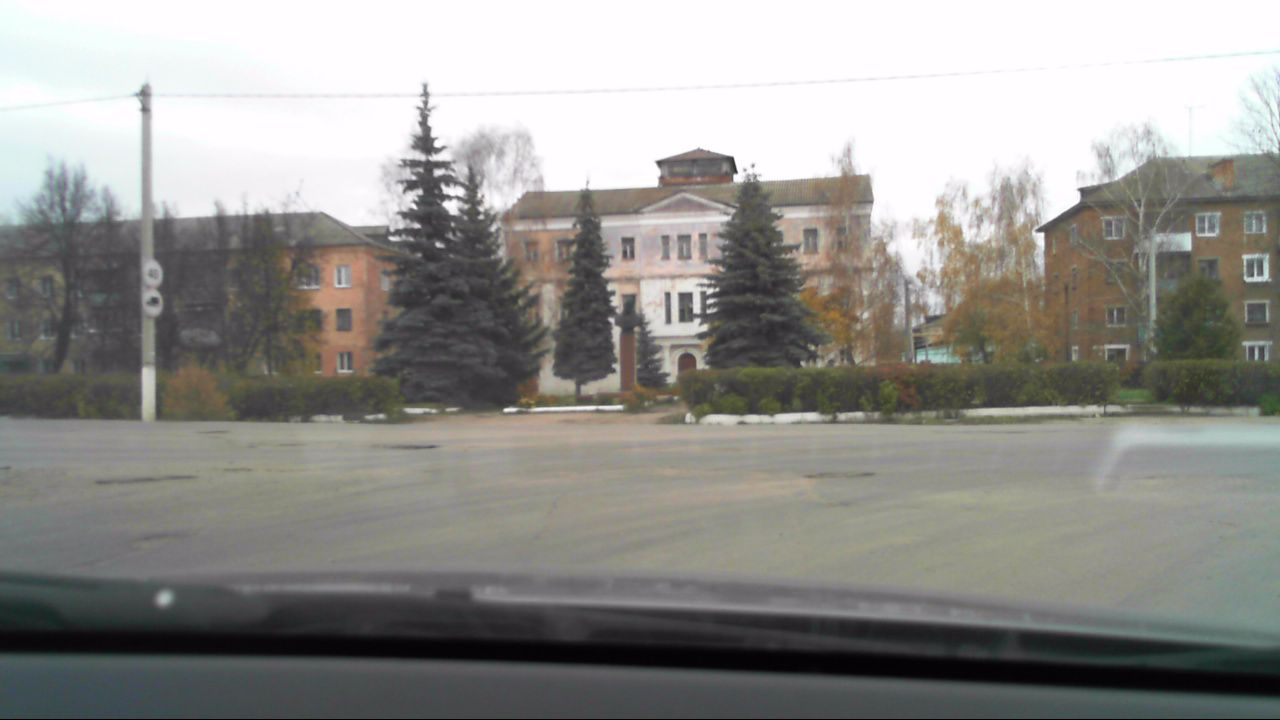speed_warning_40: (139, 258, 165, 288)
